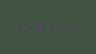five: (57, 20, 64, 35)
four: (65, 21, 72, 35)
one: (49, 20, 56, 34)
seven: (41, 19, 48, 34)
two: (17, 17, 24, 32), (25, 18, 32, 32)
zero: (33, 19, 40, 33)
